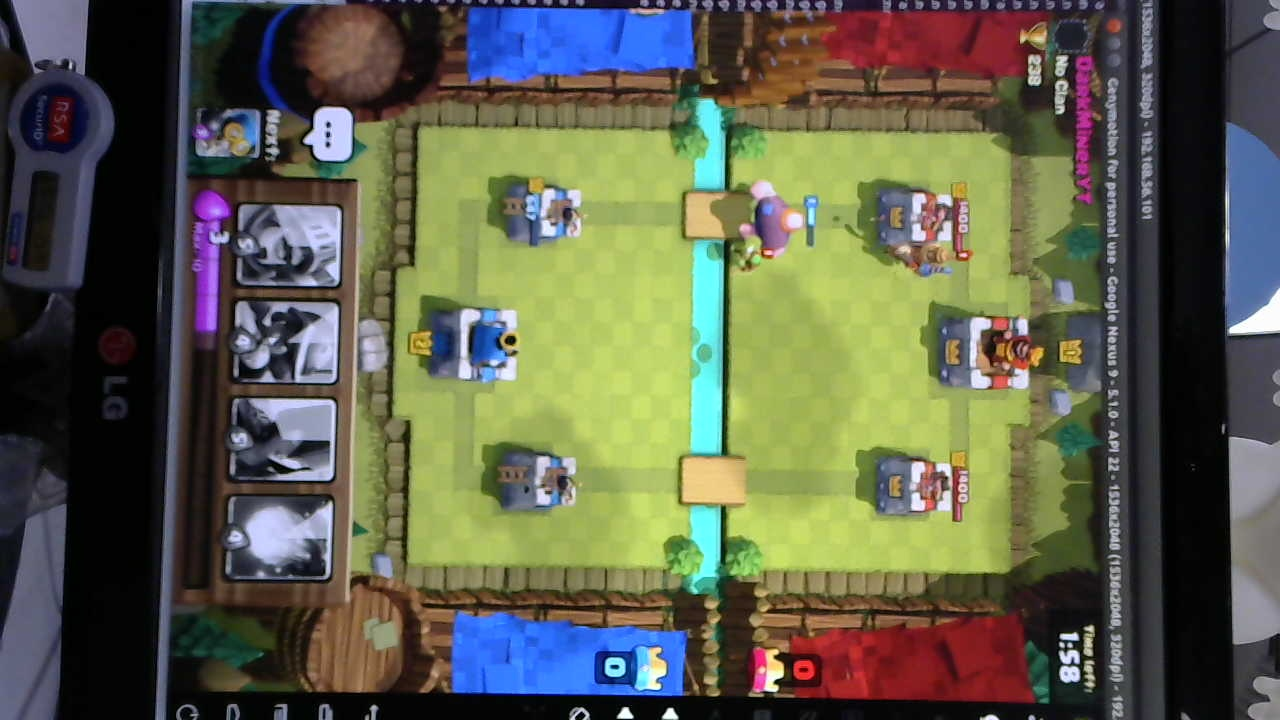arena: (499, 447, 581, 513), (505, 183, 585, 245)
earena: (871, 452, 952, 520), (876, 189, 952, 253)
eking: (934, 314, 1039, 393)
giant: (742, 183, 802, 261)
king: (428, 302, 524, 387)
prince: (882, 241, 954, 276)
speargoblin: (725, 238, 769, 276)
